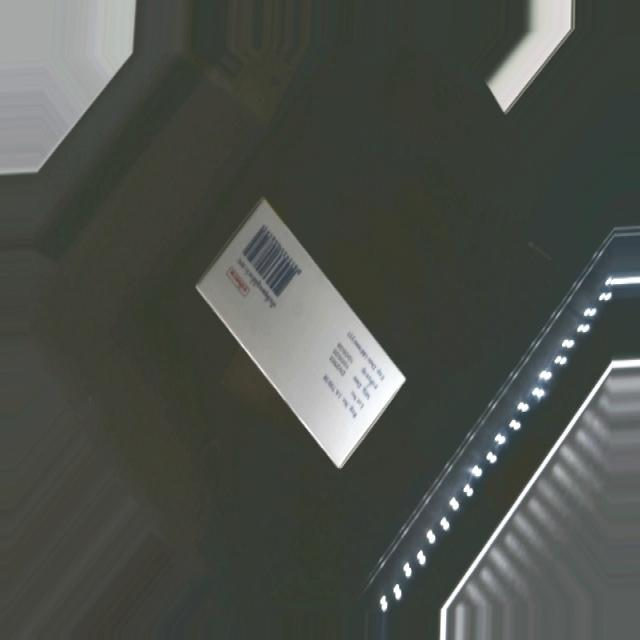sefloc: (175, 196, 426, 472)
